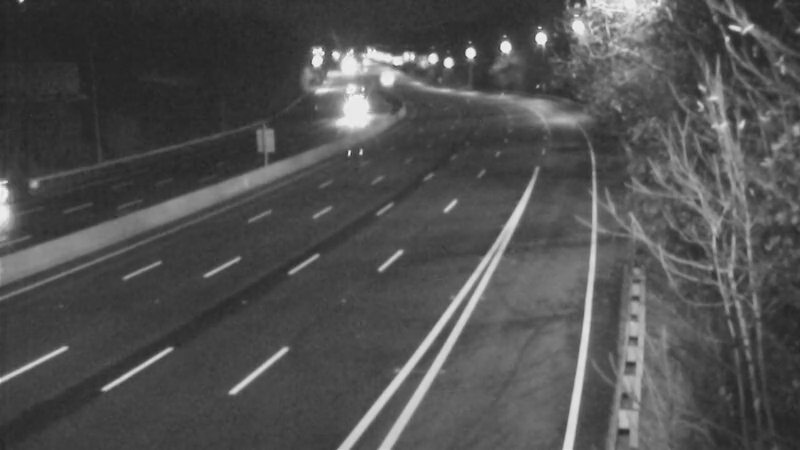vehicle: (1, 150, 68, 230), (359, 54, 409, 104), (327, 91, 377, 141)
